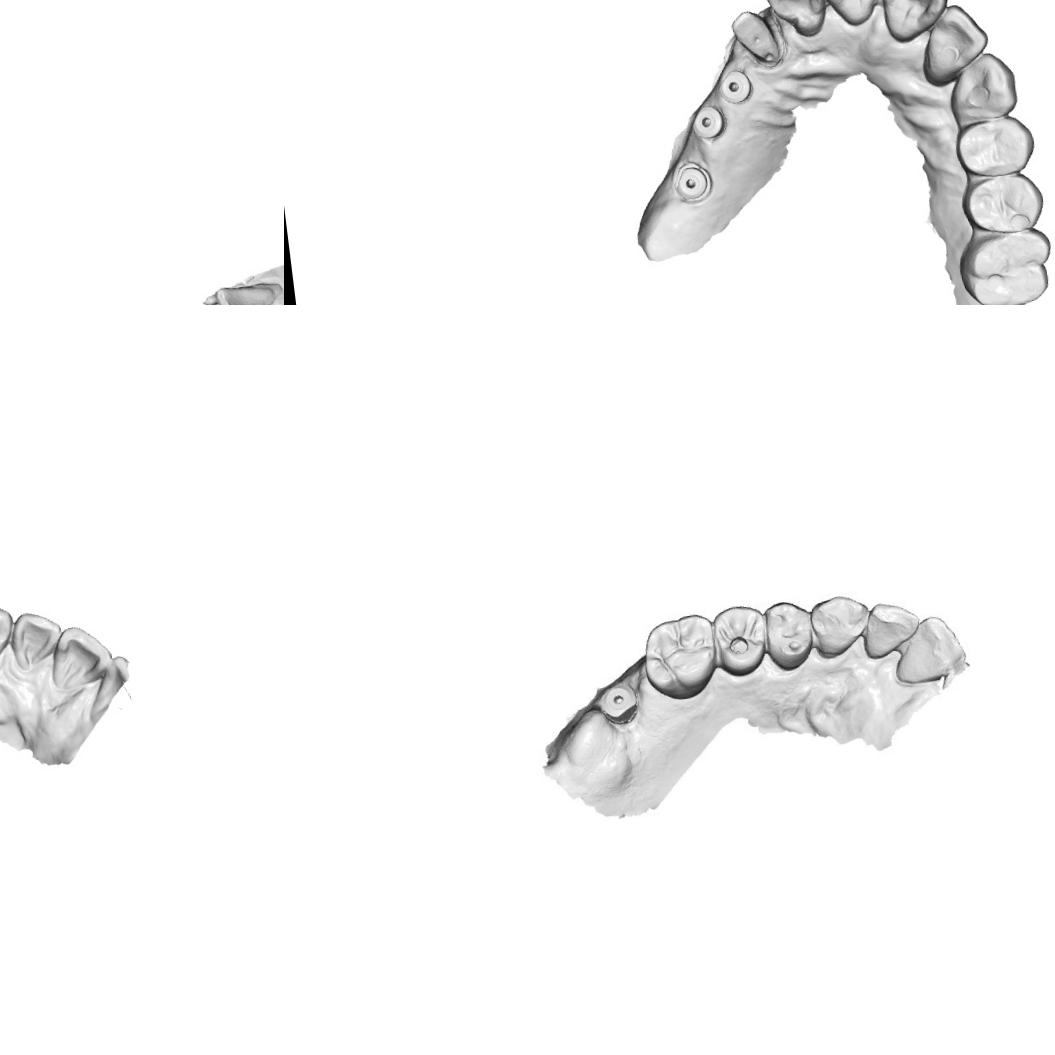canine: (942, 49, 1022, 127), (808, 592, 870, 660), (0, 601, 17, 670)
crown: (726, 3, 786, 72)
implant: (592, 677, 644, 729), (667, 162, 716, 204), (690, 102, 730, 141), (718, 67, 755, 108)
incisor: (889, 611, 966, 688), (918, 0, 992, 78), (47, 622, 115, 692), (859, 596, 925, 662), (6, 607, 65, 671), (874, 0, 956, 45), (761, 0, 830, 40), (818, 0, 894, 29), (213, 278, 284, 305)
molar: (637, 608, 726, 705), (954, 223, 1055, 305)
premolar: (958, 170, 1049, 238), (707, 596, 775, 680), (952, 114, 1038, 179), (758, 596, 816, 674)
